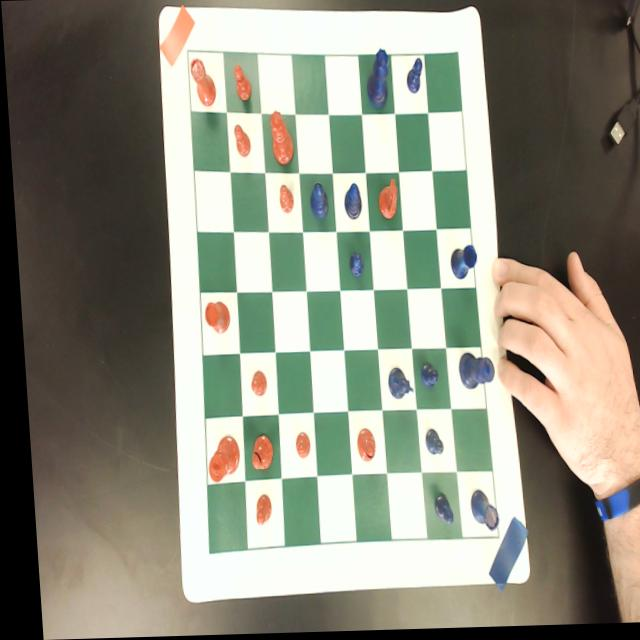B: (339, 182, 359, 223), (305, 182, 325, 222)
K: (451, 352, 490, 391)
N: (379, 366, 407, 407)
P: (403, 57, 423, 96), (424, 493, 445, 529), (417, 427, 438, 458), (414, 361, 434, 392), (342, 249, 360, 282)
Q: (362, 48, 389, 111)
R: (462, 490, 492, 533), (444, 242, 474, 281)
b: (242, 434, 268, 471), (349, 429, 370, 462)
cb: (186, 50, 490, 554)
k: (200, 434, 234, 483)
n: (372, 177, 396, 222)
p: (231, 64, 250, 103), (231, 123, 249, 158), (247, 493, 264, 527), (243, 370, 262, 398), (275, 184, 291, 215), (287, 431, 304, 459)
q: (267, 110, 292, 166)
r: (188, 58, 214, 108), (199, 300, 225, 335)
